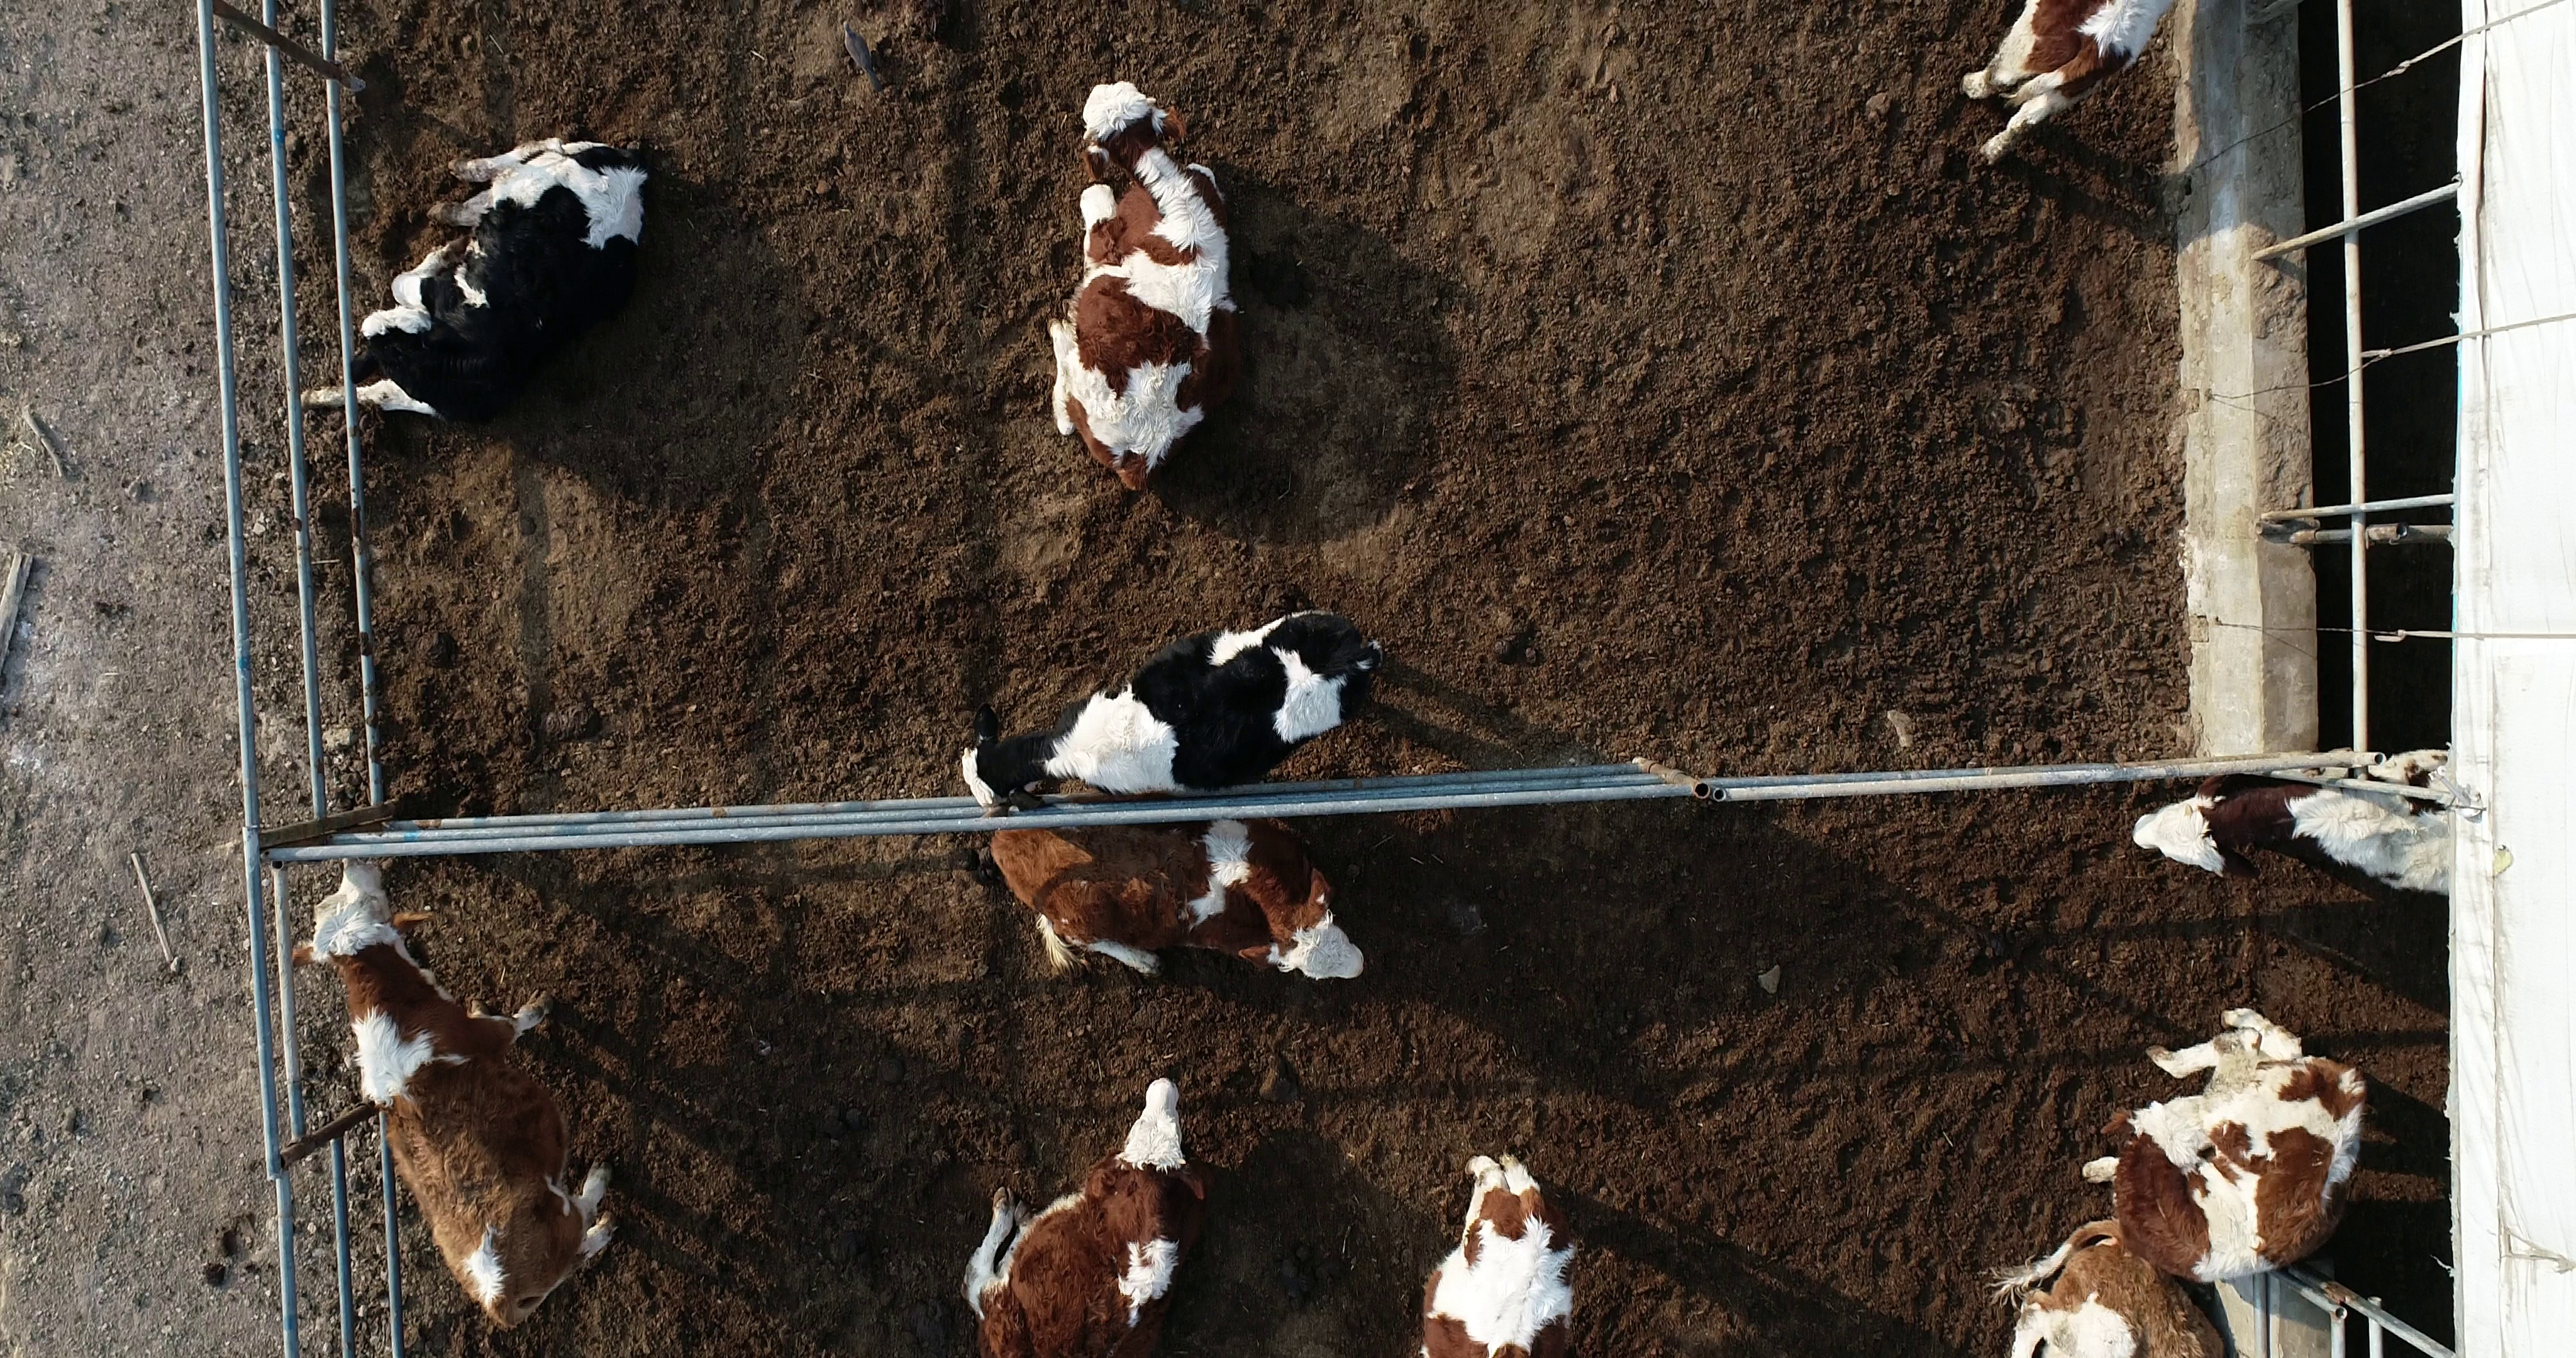cattle: (285, 854, 625, 1334), (954, 605, 1389, 808), (1041, 80, 1251, 498)
